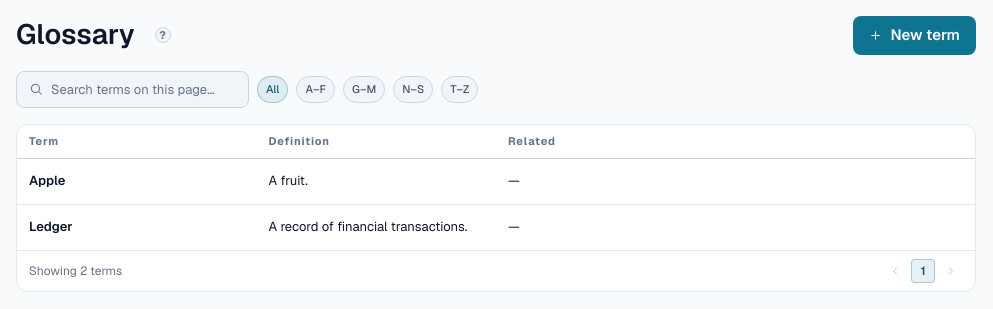
Test case: GlossaryPage › filters rows by the search box
The width and height of the screenshot is (993, 309).
Expected: the text "Apple" is shown, [29,171,65,191]
Type "financial" into the field labelled "Search terms on this page…" at x=144, y=89, box [51,80,236,99]
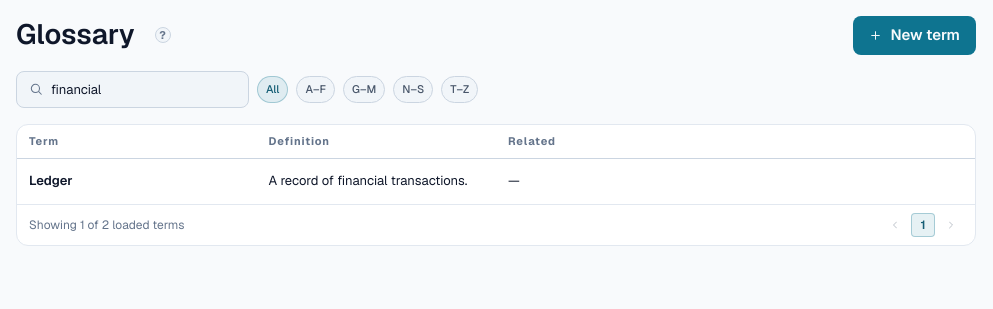
Expected: the text "Ledger" is shown, [29,171,72,191]
Now the text "Apple" is gone
